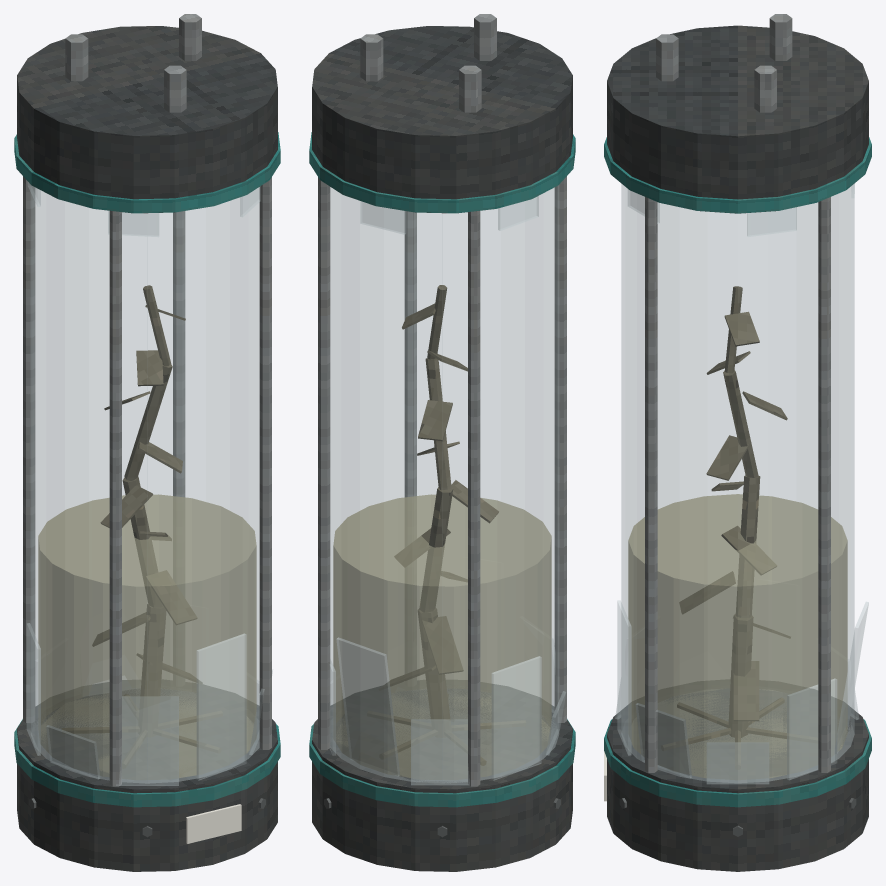
The model's file is specimen_tank.glb.
3 renders of one model, left to right at view 1: azimuth 30°, elevation 25°; view 2: azimuth 150°, elevation 25°; view 3: azimuth 270°, elevation 25°, orthographic.
Parts seen in each view (by area): view 1: glass, body, liquid, glass_broken; view 2: body, glass, liquid, glass_broken; view 3: glass, body, liquid, glass_broken.
Boxes of the visible parts, x1,y1,x2,y2 form: glass: [31, 185, 259, 783]; body: [14, 14, 280, 871]; liquid: [38, 494, 256, 779]; glass_broken: [27, 182, 272, 785]; body: [309, 14, 575, 871]; glass: [330, 185, 558, 782]; liquid: [333, 494, 551, 779]; glass_broken: [329, 196, 565, 784]; glass: [621, 184, 854, 782]; body: [604, 14, 871, 871]; liquid: [628, 494, 847, 779]; glass_broken: [615, 183, 868, 783].
Bounding box in the file's own units: 0.94 × 3 × 0.94.
Materials: 8 (4 with a texture image).
